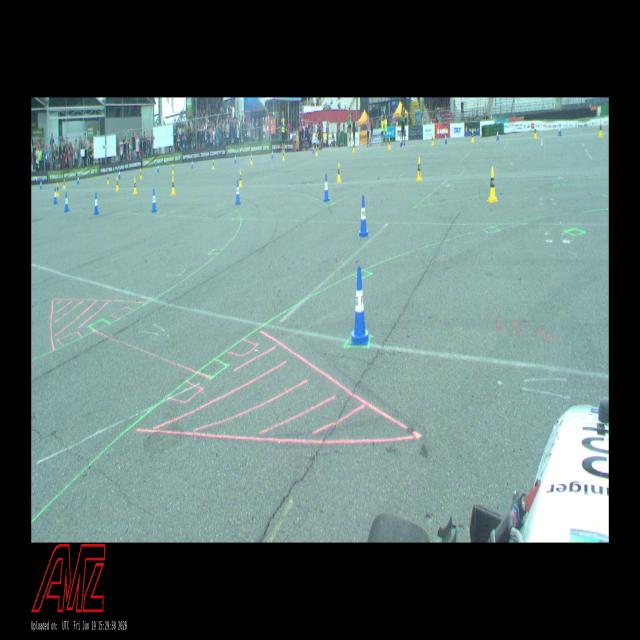blue_cone: (350, 266, 369, 345), (359, 195, 368, 236), (235, 180, 241, 205), (324, 174, 329, 201), (152, 188, 157, 213), (94, 193, 99, 215), (64, 193, 69, 212), (53, 188, 58, 204), (558, 123, 562, 136), (496, 129, 499, 140), (234, 154, 237, 163), (312, 144, 314, 154), (192, 158, 194, 168), (40, 179, 42, 188), (77, 175, 79, 184), (158, 163, 160, 172), (118, 169, 120, 178), (445, 134, 447, 143), (400, 137, 402, 146), (272, 149, 274, 158)
yellow_cone: (486, 167, 498, 202), (417, 157, 423, 181), (598, 120, 604, 137), (171, 177, 176, 194), (337, 163, 341, 182), (239, 170, 243, 188), (134, 178, 138, 194), (534, 125, 538, 138), (56, 182, 60, 195), (116, 177, 119, 191), (106, 174, 110, 184), (471, 130, 474, 143), (212, 158, 215, 170), (388, 138, 391, 150), (431, 134, 434, 146), (250, 154, 253, 165), (172, 164, 175, 174), (352, 142, 355, 152), (63, 179, 66, 188), (316, 144, 318, 156), (140, 168, 142, 179), (283, 150, 285, 161)
